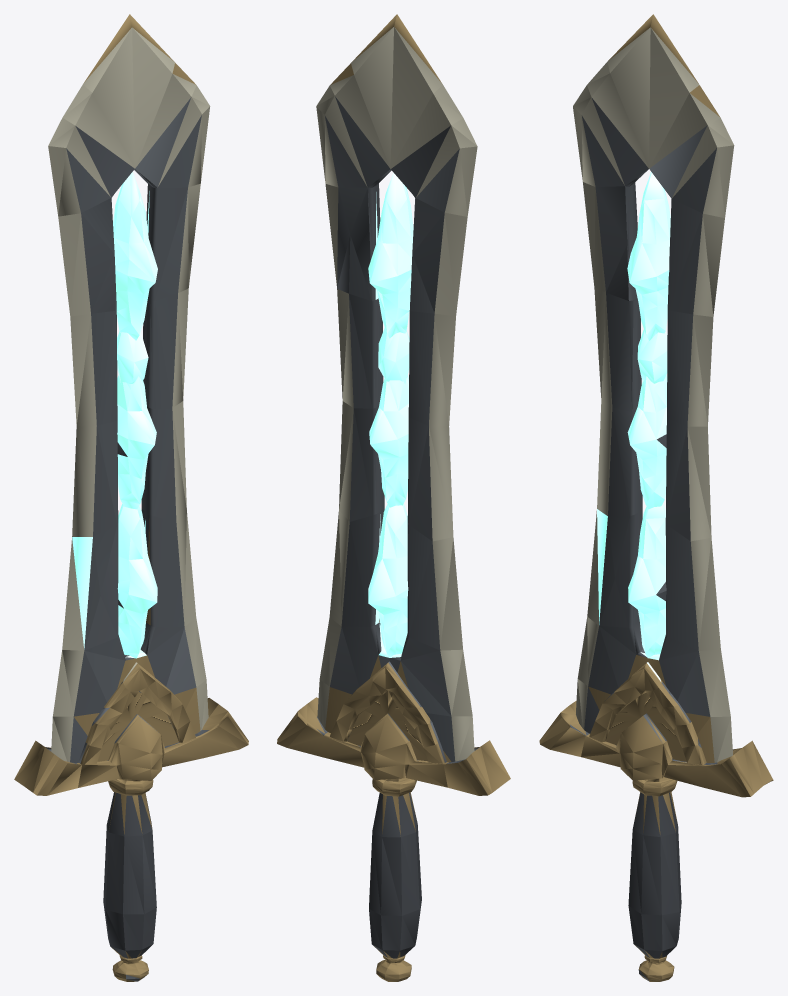
The model's file is soulforged_one_hand.glb.
3 renders of one model, left to right at view 1: azimuth 30°, elevation 25°; view 2: azimuth 150°, elevation 25°; view 3: azimuth 330°, elevation 25°, orthographic.
Visible parts, largest first — view 1: SoulforgedArmingSword; view 2: SoulforgedArmingSword; view 3: SoulforgedArmingSword.
Boxes of the visible parts, box(x1,y1,x2,y2) form: SoulforgedArmingSword: box(14, 14, 248, 981); SoulforgedArmingSword: box(277, 14, 510, 981); SoulforgedArmingSword: box(539, 14, 773, 981).
Size of the model in its own units: 0.235 by 1 by 0.1023.
